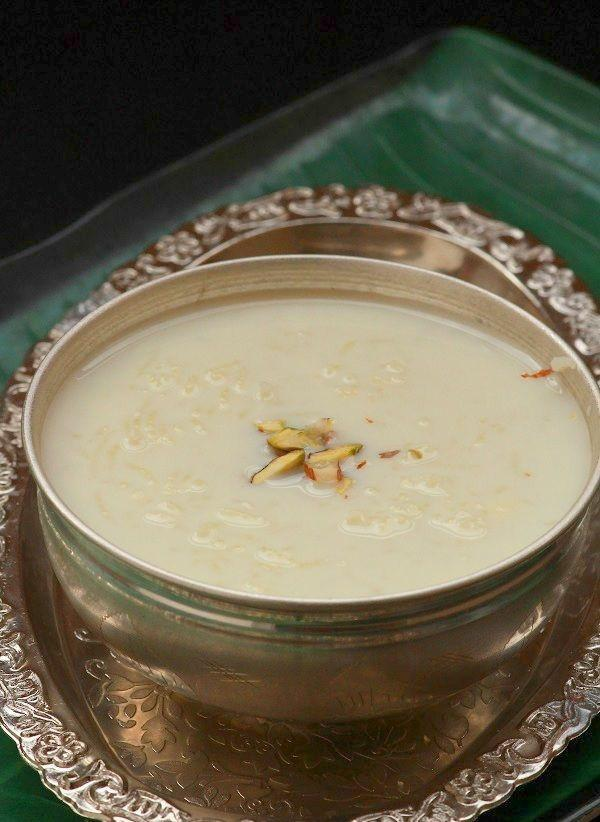Kheer: (36, 296, 600, 595)
